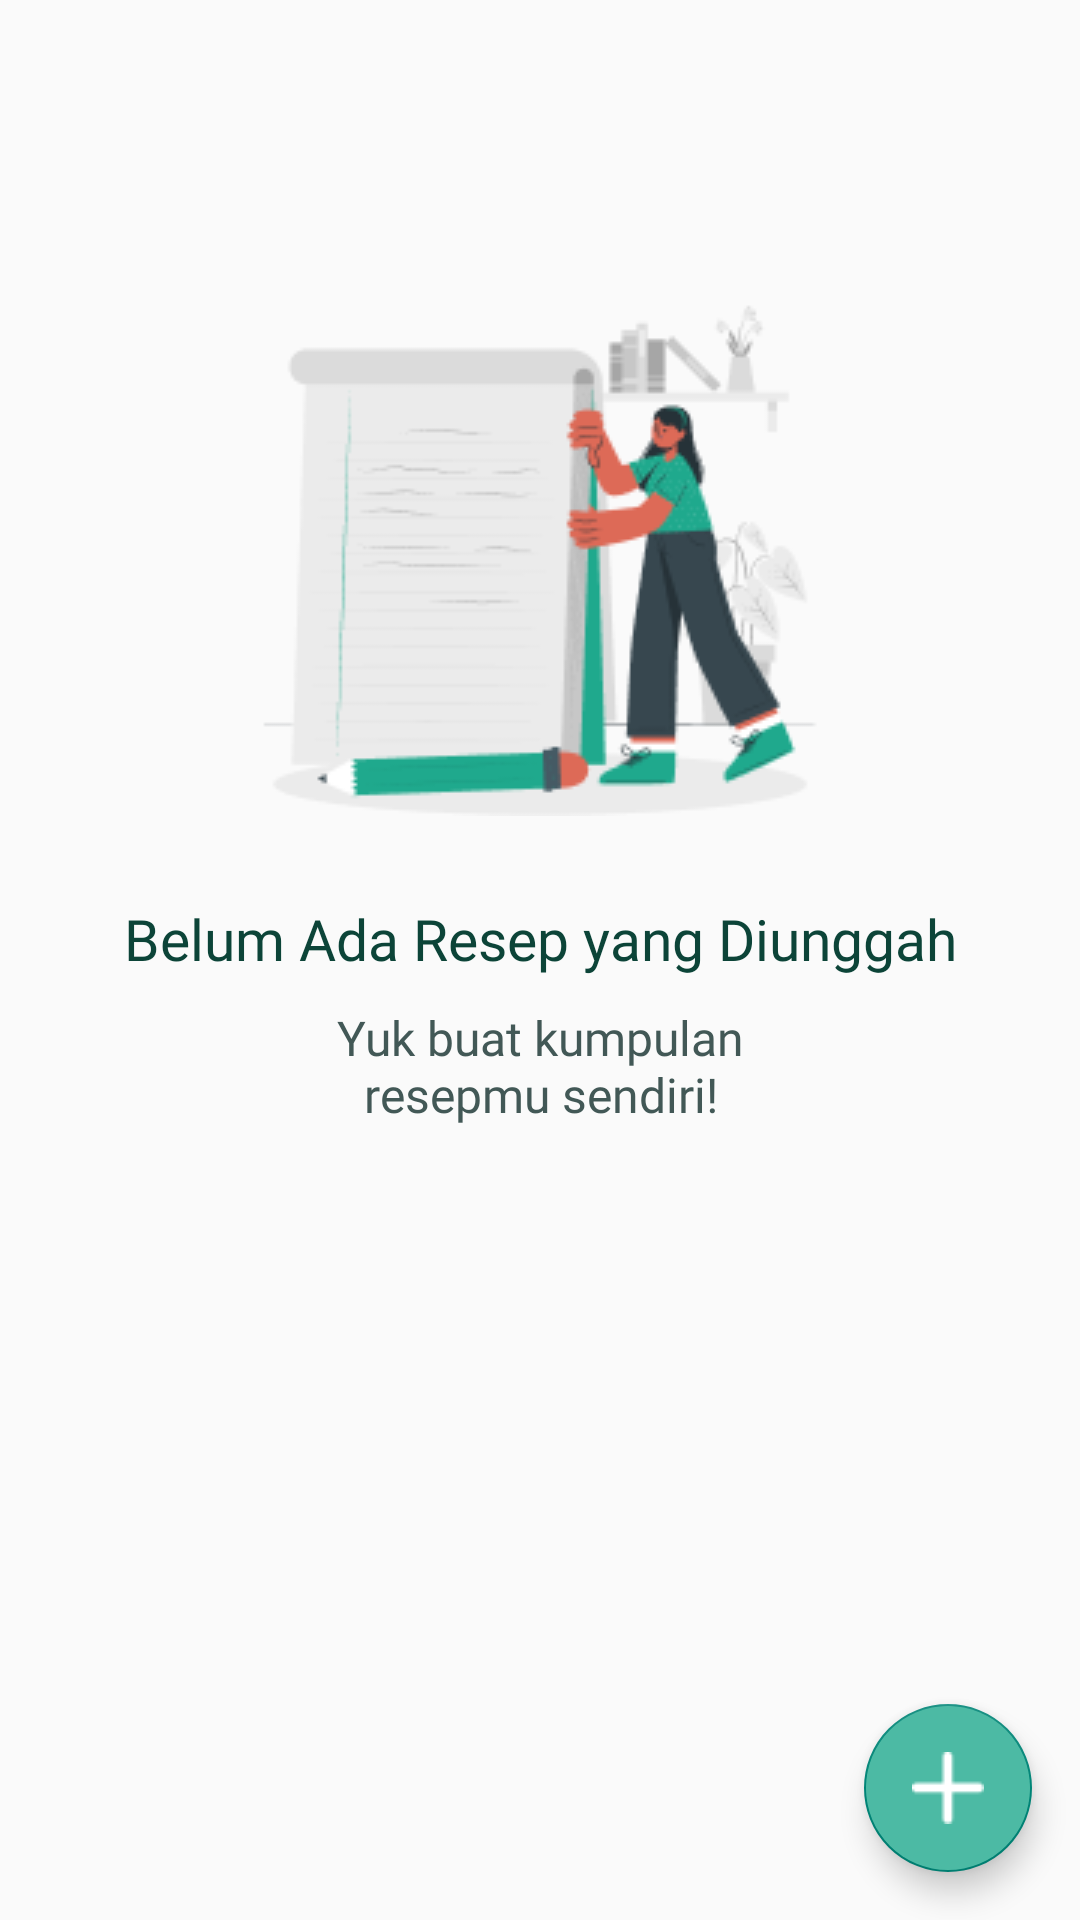

Where to tap for icons on this 1080w x 1920h app screen, as [x,y]:
tambah: [948,1788]
